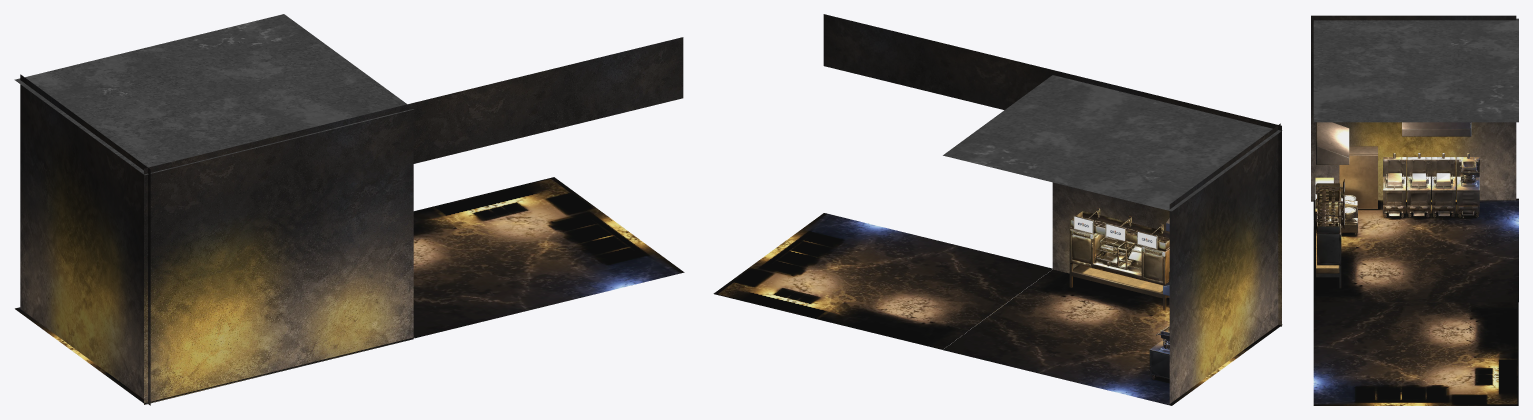
Rendered from kitchen_layer_new.glb.
The picture shows the model from 3 angles, left to right: view 1: azimuth 30°, elevation 25°; view 2: azimuth 150°, elevation 25°; view 3: azimuth 270°, elevation 25°; orthographic projection. The views are drawn at different scales.
Visible parts, largest first — view 1: Plane.006, Plane.003, Plane.001, Plane.021, Plane.020, Plane; view 2: Plane.021, Plane.003, Plane.001, Plane, Plane.020, Plane.006, Mesh_0.013, Plane.009, Mesh_0.002; view 3: Plane.021, Plane.003, Plane, Plane.001, Mesh_0.002, Mesh_0.013, Plane.004, Plane.007, Plane.002, Mesh_0, Plane.009, Cube.
Boxes of the visible parts, box(x1,y1,x2,y2) form: Plane.006: box(144, 103, 413, 404); Plane.003: box(14, 14, 413, 174); Plane.001: box(20, 74, 150, 405); Plane.021: box(413, 177, 684, 338); Plane.020: box(413, 37, 683, 163); Plane: box(15, 307, 413, 403); Plane.021: box(713, 213, 1052, 349); Plane.003: box(943, 75, 1282, 211); Plane.001: box(1169, 123, 1280, 403); Plane: box(943, 269, 1282, 405); Plane.020: box(823, 14, 1052, 109); Plane.006: box(1052, 70, 1281, 326); Mesh_0.013: box(1069, 207, 1169, 285); Plane.009: box(1069, 263, 1168, 310); Mesh_0.002: box(1149, 325, 1169, 379); Plane.021: box(1313, 302, 1518, 405); Plane.003: box(1313, 18, 1518, 122); Plane: box(1313, 198, 1518, 302); Plane.001: box(1311, 15, 1516, 201); Mesh_0.002: box(1383, 153, 1479, 218); Mesh_0.013: box(1315, 179, 1344, 265); Plane.004: box(1339, 146, 1377, 208); Plane.007: box(1316, 122, 1349, 164); Plane.002: box(1402, 122, 1471, 136); Mesh_0: box(1341, 195, 1357, 235); Plane.009: box(1316, 230, 1341, 288); Cube: box(1315, 177, 1333, 244).
Bounding box in the file's own units: 16.8 × 7.03 × 7.12.
Materials: 13 (13 with a texture image).
